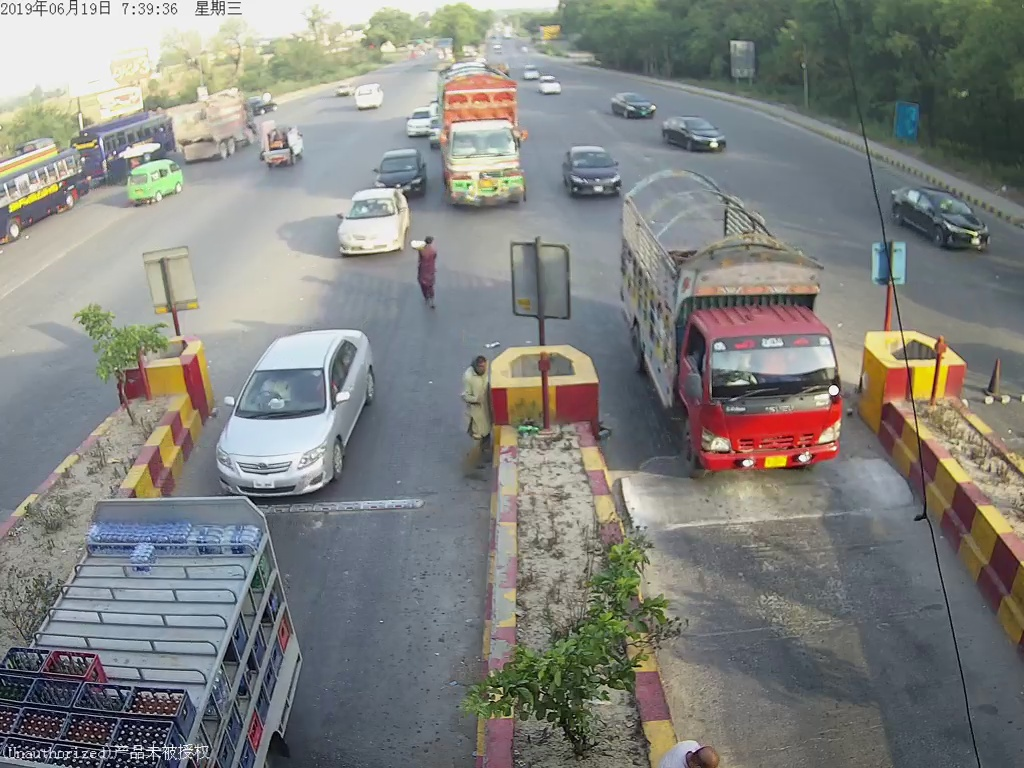Cat-1: (212, 322, 384, 500), (333, 193, 411, 254), (560, 145, 616, 198)
Cat-4: (621, 179, 851, 484), (438, 76, 529, 212)
